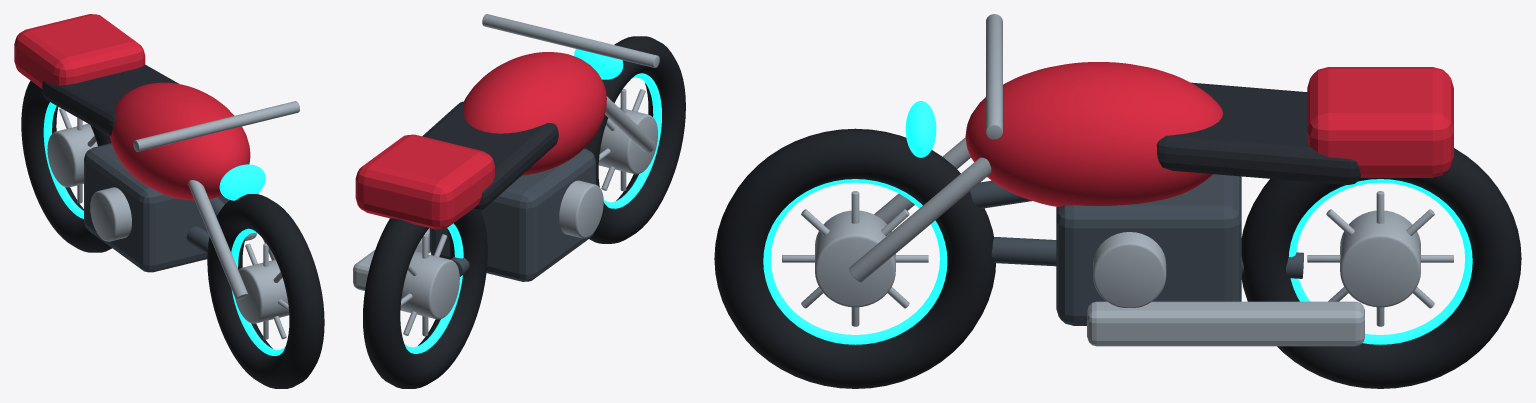
The model's file is cyberpunk_motorcycle.glb.
3 renders of one model, left to right at view 1: azimuth 30°, elevation 25°; view 2: azimuth 150°, elevation 25°; view 3: azimuth 270°, elevation 25°, orthographic. The views are drawn at different scales.
Visible parts, largest first — view 1: Motorcycle_FrontTyre, Motorcycle_FuelTank, Motorcycle_EngineBlock, Motorcycle_TailCowl, Motorcycle_RearTyre, Motorcycle_RiderSeat, Motorcycle_FrontHub, Motorcycle_Handlebar, Motorcycle_RearHub, Motorcycle_EngineCylinder_1, Motorcycle_FrontForkLeft, Motorcycle_Headlamp (+4 smaller); view 2: Motorcycle_RearTyre, Motorcycle_FuelTank, Motorcycle_TailCowl, Motorcycle_EngineBlock, Motorcycle_FrontTyre, Motorcycle_RiderSeat, Motorcycle_RearHub, Motorcycle_Handlebar, Motorcycle_FrontHub, Motorcycle_EngineCylinder_1, Motorcycle_FrontNeonRim, Motorcycle_FrontForkLeft (+6 smaller); view 3: Motorcycle_FrontTyre, Motorcycle_FuelTank, Motorcycle_RearTyre, Motorcycle_EngineBlock, Motorcycle_TailCowl, Motorcycle_Exhaust, Motorcycle_RiderSeat, Motorcycle_RearHub, Motorcycle_FrontHub, Motorcycle_EngineCylinder_2, Motorcycle_FrontNeonRim, Motorcycle_FrontForkRight (+6 smaller).
Part boxes in pixels (left/top/right/bottom): Motorcycle_FrontTyre: left=207, top=194, right=324, bottom=388; Motorcycle_FuelTank: left=110, top=82, right=250, bottom=200; Motorcycle_EngineBlock: left=84, top=143, right=230, bottom=272; Motorcycle_TailCowl: left=14, top=14, right=145, bottom=88; Motorcycle_RearTyre: left=21, top=80, right=111, bottom=252; Motorcycle_RiderSeat: left=42, top=64, right=178, bottom=135; Motorcycle_FrontHub: left=235, top=259, right=289, bottom=323; Motorcycle_Handlebar: left=133, top=101, right=299, bottom=151; Motorcycle_RearHub: left=47, top=124, right=97, bottom=187; Motorcycle_EngineCylinder_1: left=90, top=187, right=131, bottom=241; Motorcycle_FrontForkLeft: left=188, top=180, right=248, bottom=300; Motorcycle_Headlamp: left=219, top=164, right=265, bottom=200; Motorcycle_RearTyre: left=363, top=209, right=487, bottom=388; Motorcycle_FuelTank: left=463, top=52, right=606, bottom=175; Motorcycle_TailCowl: left=355, top=134, right=494, bottom=229; Motorcycle_EngineBlock: left=429, top=148, right=595, bottom=281; Motorcycle_FrontTyre: left=584, top=36, right=685, bottom=243; Motorcycle_RiderSeat: left=422, top=101, right=558, bottom=210; Motorcycle_RearHub: left=400, top=251, right=459, bottom=319; Motorcycle_Handlebar: left=482, top=14, right=659, bottom=67; Motorcycle_FrontHub: left=598, top=107, right=657, bottom=174; Motorcycle_EngineCylinder_1: left=559, top=180, right=603, bottom=238; Motorcycle_FrontNeonRim: left=603, top=73, right=661, bottom=208; Motorcycle_FrontForkLeft: left=605, top=96, right=655, bottom=152; Motorcycle_FrontTyre: left=714, top=128, right=995, bottom=388; Motorcycle_FuelTank: left=965, top=62, right=1222, bottom=206; Motorcycle_RearTyre: left=1241, top=148, right=1521, bottom=388; Motorcycle_EngineBlock: left=1056, top=174, right=1241, bottom=325; Motorcycle_TailCowl: left=1307, top=67, right=1453, bottom=177; Motorcycle_Exhaust: left=1087, top=301, right=1364, bottom=346; Motorcycle_RiderSeat: left=1156, top=82, right=1360, bottom=184; Motorcycle_RearHub: left=1340, top=210, right=1420, bottom=307; Motorcycle_FrontHub: left=815, top=210, right=895, bottom=307; Motorcycle_EngineCylinder_2: left=1093, top=232, right=1166, bottom=307; Motorcycle_FrontNeonRim: left=763, top=179, right=947, bottom=344; Motorcycle_FrontForkRight: left=849, top=157, right=991, bottom=282.
Size of the model in its own units: 0.68 by 0.907 by 2.09.
